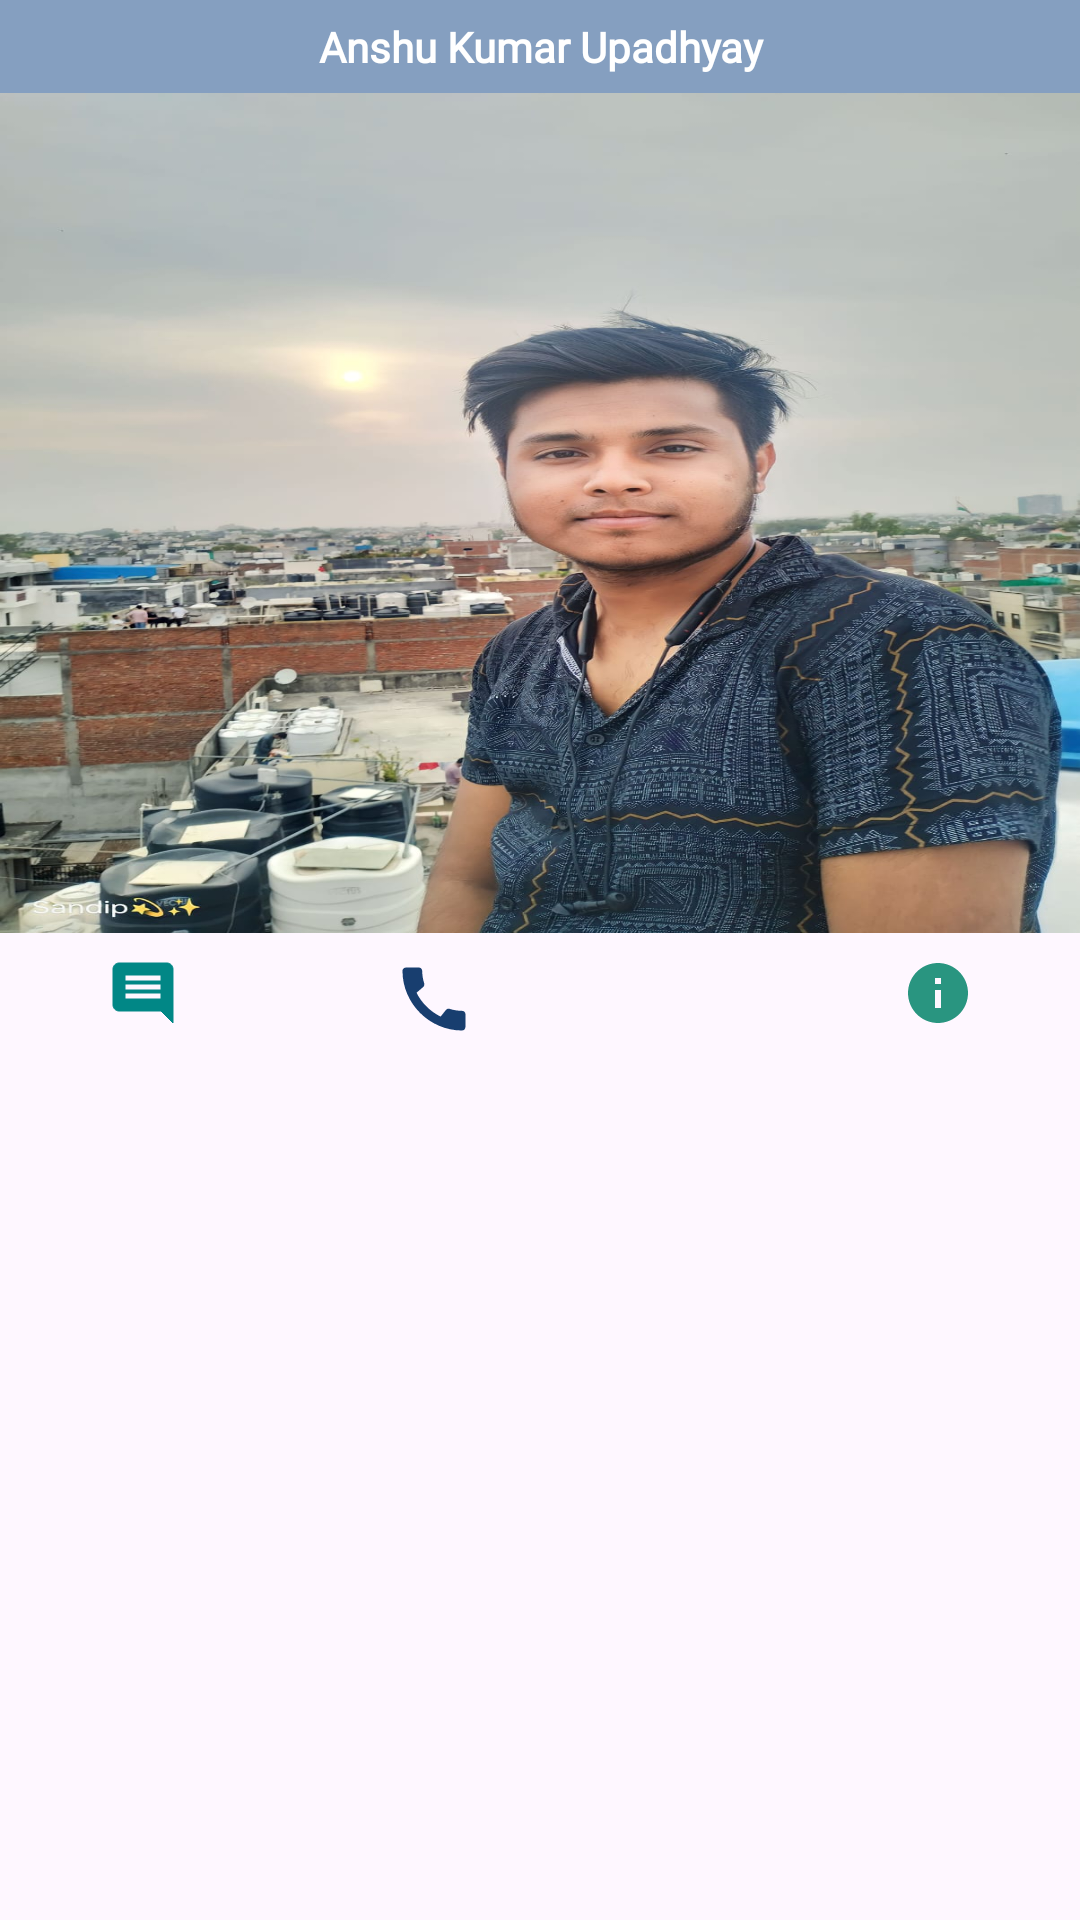

Screen size 1080*1920. Icon name, then its center in pixels as (x,y):
call: (434,999)
comment: (143,992)
info: (938,993)
